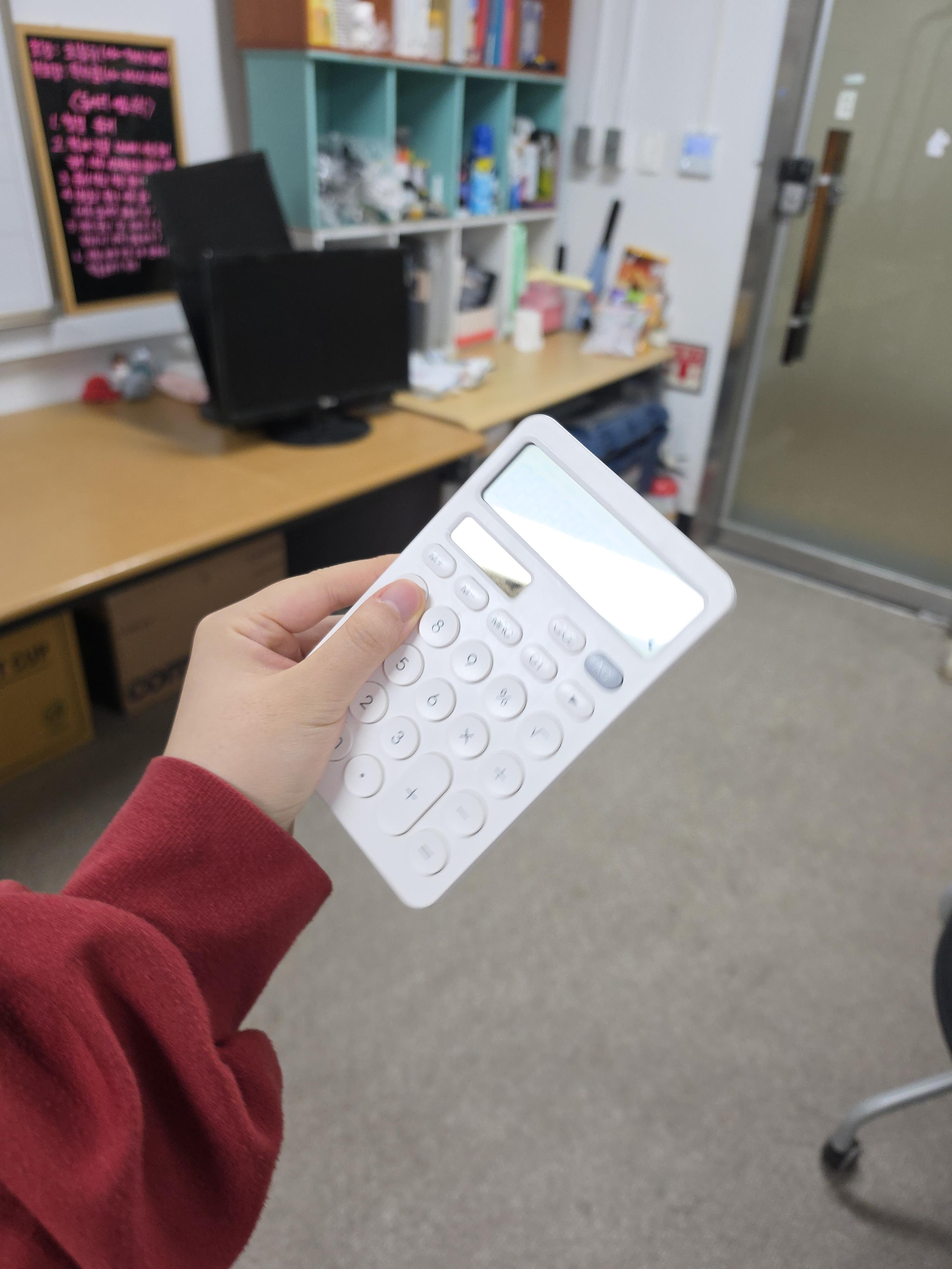calculator: (314, 413, 738, 909)
